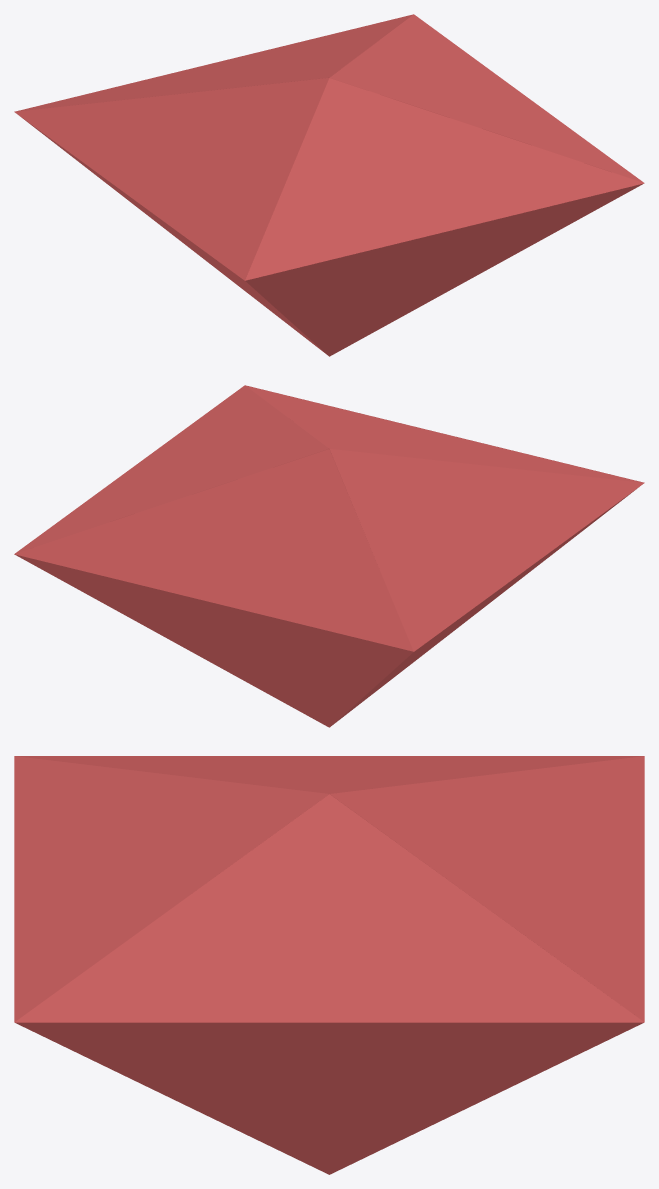
File: km1_ukishima.glb
The picture shows the model from 3 angles, top to bottom: view 1: azimuth 30°, elevation 25°; view 2: azimuth 150°, elevation 25°; view 3: azimuth 270°, elevation 25°; orthographic projection. The views are drawn at different scales.
Parts seen in each view (by area): view 1: km1_ukishima_col; view 2: km1_ukishima_col; view 3: km1_ukishima_col.
Boxes of the visible parts, x1,y1,x2,y2 form: km1_ukishima_col: (14,14,644,356); km1_ukishima_col: (14,385,644,727); km1_ukishima_col: (14,756,644,1174).
Size of the model in its own units: 6 by 4 by 6.
